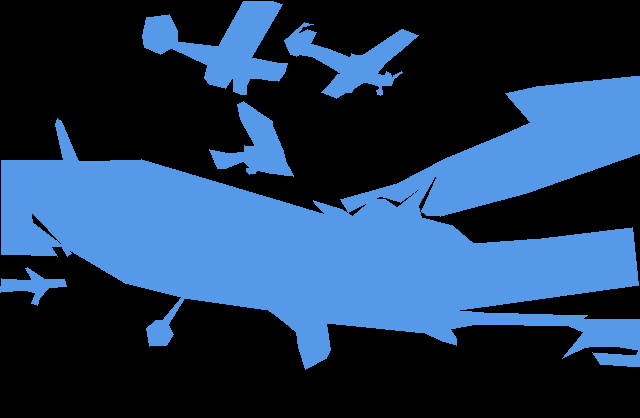Airplane: (24, 118, 639, 369), (340, 75, 640, 216), (142, 1, 287, 94), (284, 22, 418, 98), (1, 159, 71, 256), (209, 101, 294, 176), (562, 319, 640, 368), (0, 267, 66, 306)
